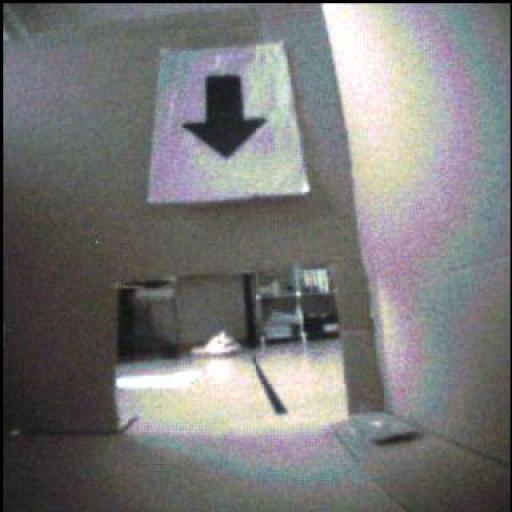arrow: (184, 77, 267, 160)
